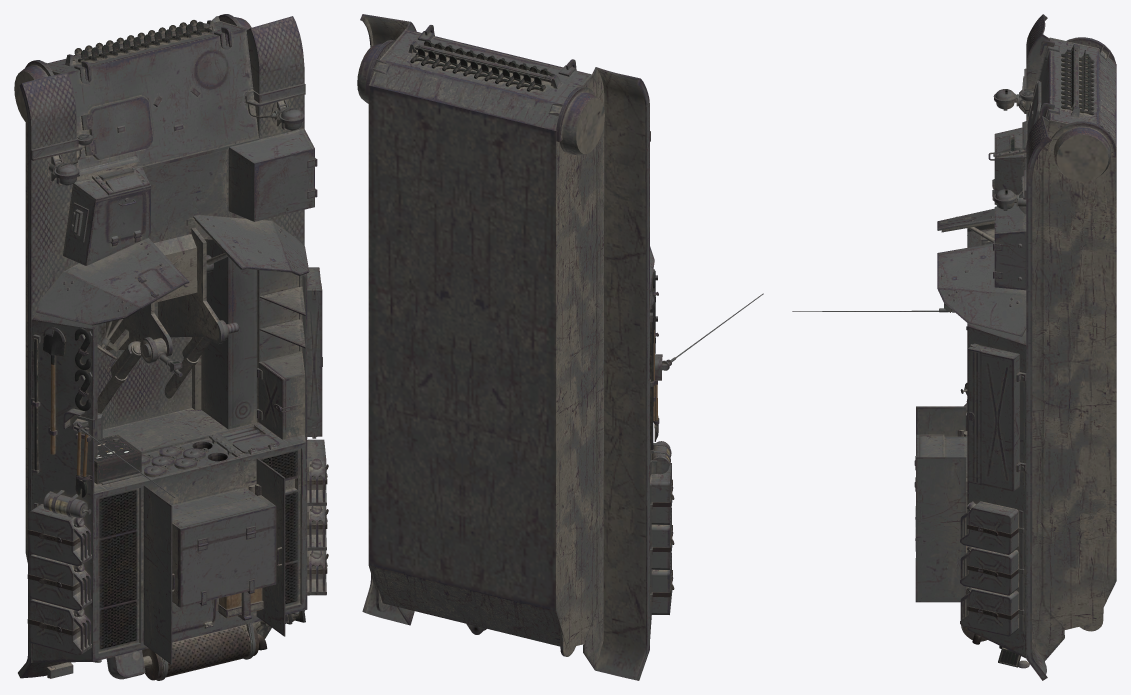
The model's file is Hull.glb.
3 renders of one model, left to right at view 1: azimuth 30°, elevation 25°; view 2: azimuth 150°, elevation 25°; view 3: azimuth 270°, elevation 25°, orthographic. The views are drawn at different scales.
Visible parts, largest first — view 1: set_0_group_0; view 2: set_0_group_0; view 3: set_0_group_0.
Boxes of the visible parts, box(x1,y1,x2,y2) form: set_0_group_0: box(14, 14, 328, 680); set_0_group_0: box(357, 14, 763, 680); set_0_group_0: box(792, 14, 1116, 680).
Bounding box in the file's own units: 2.81 × 5.42 × 2.9.
Materials: 1 (1 with a texture image).
